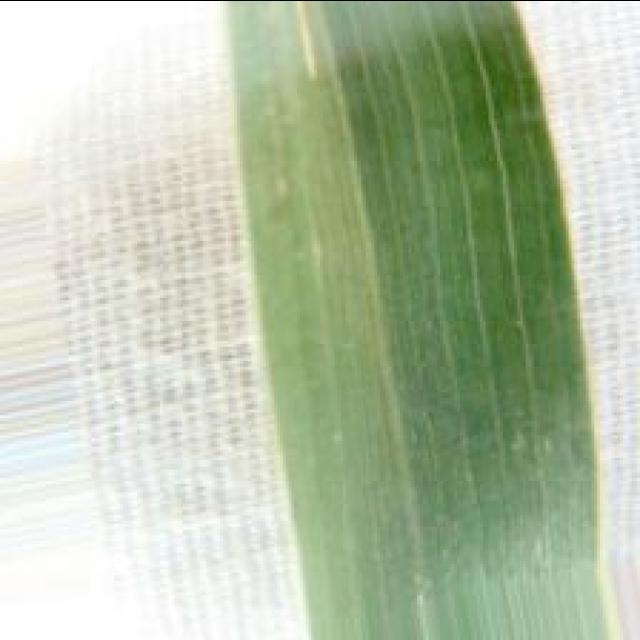Healthy: (229, 0, 604, 640)
